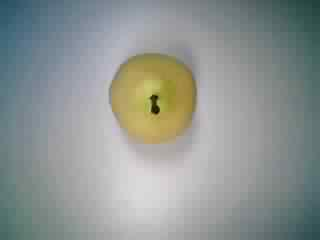pear: (96, 44, 204, 142)
